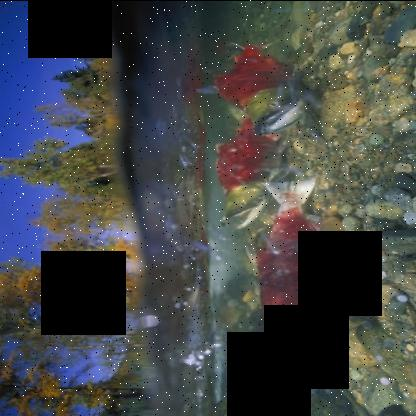fish: (245, 178, 346, 390), (196, 40, 322, 134), (208, 98, 282, 228)
